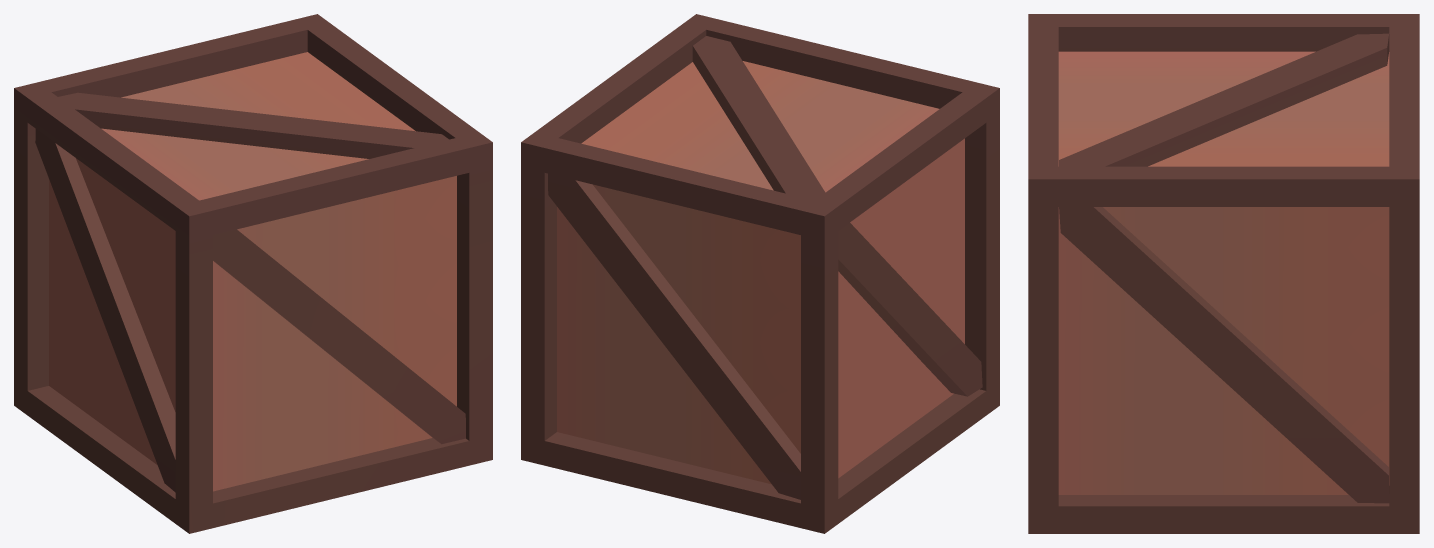
The model's file is yashik.fbx.
The picture shows the model from 3 angles, left to right: view 1: azimuth 30°, elevation 25°; view 2: azimuth 150°, elevation 25°; view 3: azimuth 270°, elevation 25°; orthographic projection. The views are drawn at different scales.
Parts seen in each view (by area): view 1: generic_01; view 2: generic_01; view 3: generic_01.
Part boxes in pixels (x1=…): generic_01: x1=14, y1=14, x2=492, y2=533; generic_01: x1=521, y1=14, x2=999, y2=533; generic_01: x1=1028, y1=14, x2=1419, y2=533.
Size of the model in its own units: 144 by 144 by 144.
